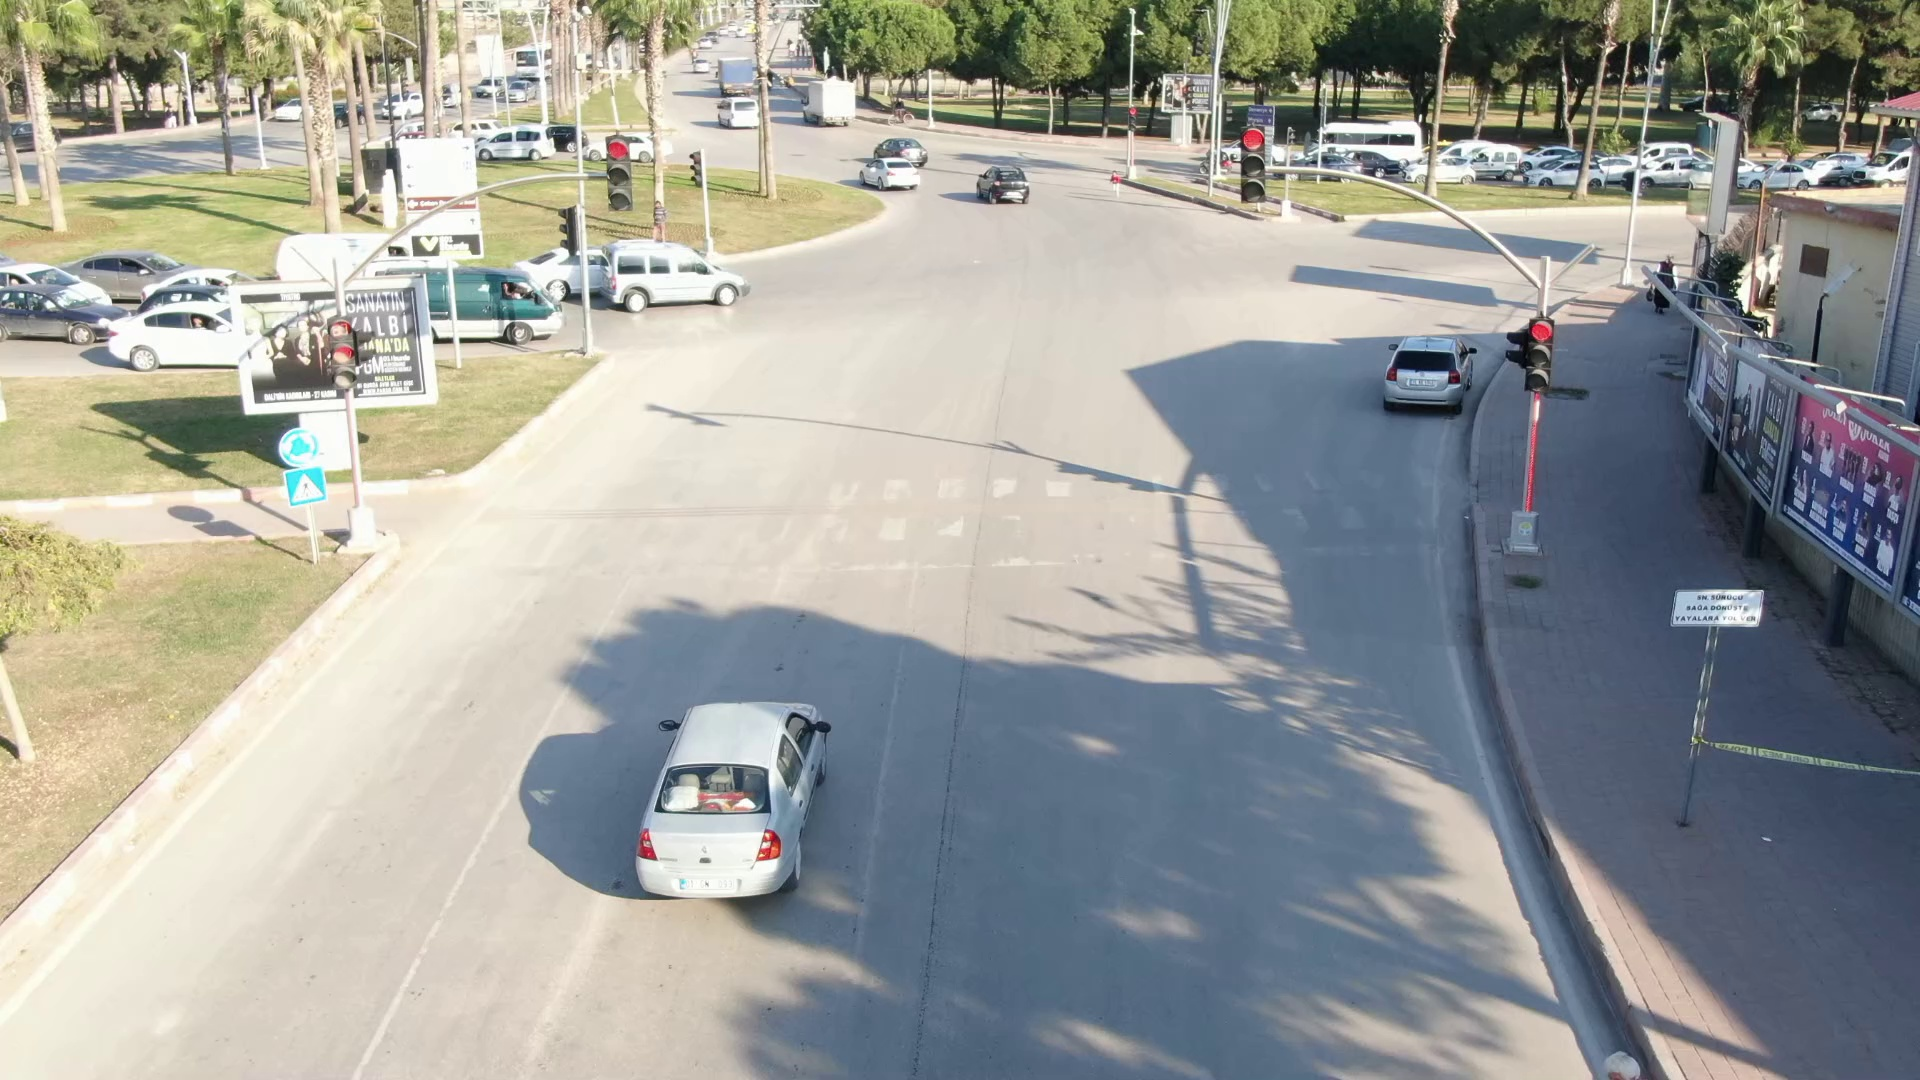car: (604, 669, 870, 957), (595, 229, 756, 320), (1365, 315, 1462, 421), (849, 138, 932, 196), (968, 160, 1036, 214)
